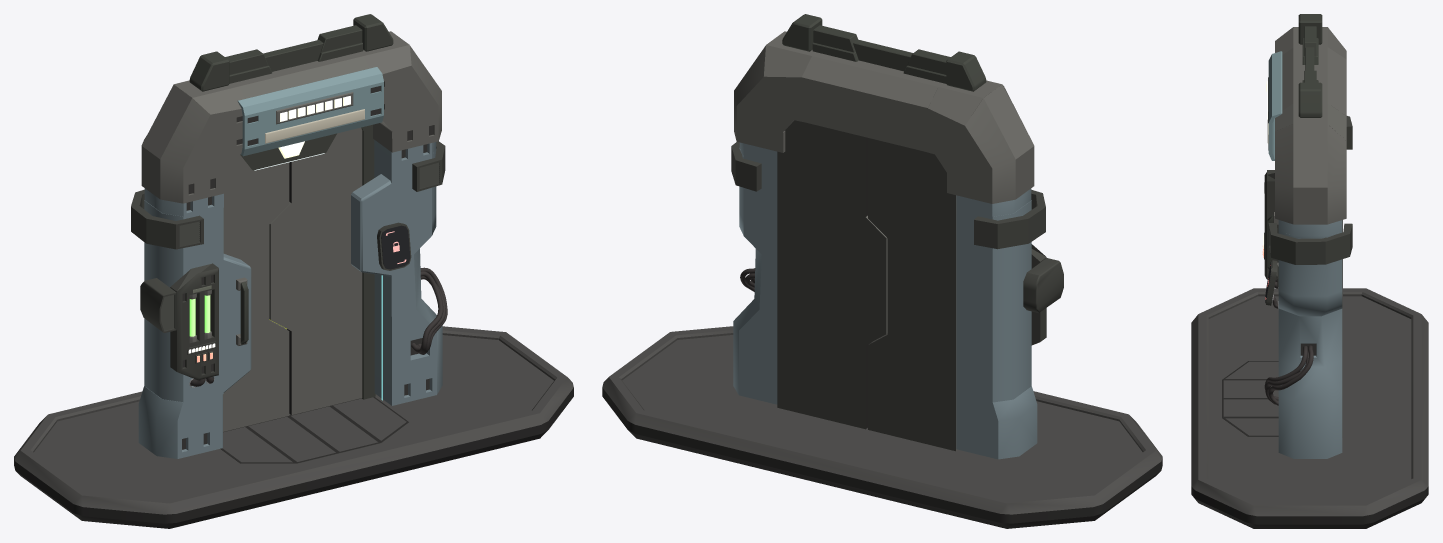
The picture shows the model from 3 angles, left to right: view 1: azimuth 30°, elevation 25°; view 2: azimuth 150°, elevation 25°; view 3: azimuth 270°, elevation 25°; orthographic projection. The views are drawn at different scales.
Parts seen in each view (by area): view 1: pCube1, pCylinder27, polySurface102, polySurface96, polySurface103, pCube105, pCylinder16, polySurface83, polySurface55, polySurface26, polySurface25, upper_grill_02 (+10 smaller); view 2: pCube1, polySurface102, pCylinder27, polySurface96, polySurface103, upper_grill_02, pCube31, polySurface70, polySurface73, upper_grill_03, polySurface74, polySurface75 (+2 smaller); view 3: pCube1, pCylinder27, polySurface96, pCube105, upper_grill_03, pCylinder16, polySurface74, polySurface83, polySurface70, pCylinder19, pCube50, polySurface71 (+1 smaller).
Boxes of the visible parts, left/top/right/bottom form: pCube1: left=14, top=326, right=573, bottom=528; pCylinder27: left=138, top=140, right=442, bottom=458; polySurface102: left=269, top=127, right=362, bottom=415; polySurface96: left=141, top=31, right=441, bottom=203; polySurface103: left=223, top=155, right=289, bottom=431; pCube105: left=220, top=397, right=408, bottom=463; pCylinder16: left=237, top=67, right=383, bottom=156; polySurface83: left=170, top=263, right=218, bottom=379; polySurface55: left=240, top=124, right=375, bottom=399; polySurface26: left=351, top=174, right=391, bottom=276; polySurface25: left=223, top=254, right=251, bottom=392; upper_grill_02: left=131, top=189, right=203, bottom=249; pCube1: left=602, top=326, right=1162, bottom=528; polySurface102: left=777, top=120, right=887, bottom=429; pCylinder27: left=733, top=142, right=1037, bottom=459; polySurface96: left=734, top=31, right=1034, bottom=203; polySurface103: left=868, top=138, right=957, bottom=451; upper_grill_02: left=974, top=189, right=1045, bottom=249; pCube31: left=1023, top=258, right=1063, bottom=312; polySurface70: left=946, top=51, right=986, bottom=91; polySurface73: left=853, top=39, right=912, bottom=71; upper_grill_03: left=731, top=142, right=761, bottom=191; polySurface74: left=782, top=14, right=822, bottom=51; polySurface75: left=813, top=25, right=857, bottom=52; pCube1: left=1191, top=288, right=1428, bottom=528; pCylinder27: left=1278, top=220, right=1342, bottom=458; polySurface96: left=1275, top=27, right=1346, bottom=224; pCube105: left=1222, top=361, right=1278, bottom=436; upper_grill_03: left=1268, top=223, right=1352, bottom=264; pCylinder16: left=1268, top=51, right=1282, bottom=160; polySurface74: left=1298, top=82, right=1322, bottom=117; polySurface83: left=1264, top=172, right=1278, bottom=279; polySurface70: left=1298, top=14, right=1322, bottom=44; pCylinder19: left=1268, top=345, right=1313, bottom=405; pCube50: left=1265, top=260, right=1277, bottom=305; polySurface71: left=1304, top=26, right=1316, bottom=56.
Size of the model in its own units: 0.1387 by 0.1064 by 0.0623.
